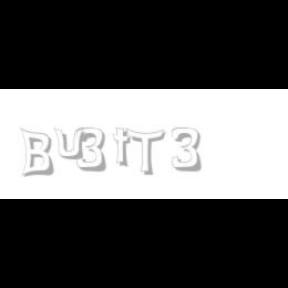3: (76, 128, 107, 172), (172, 128, 202, 172)
B: (20, 128, 54, 178)
T: (125, 128, 165, 176)
t: (113, 128, 135, 168)
u: (54, 128, 88, 160)
